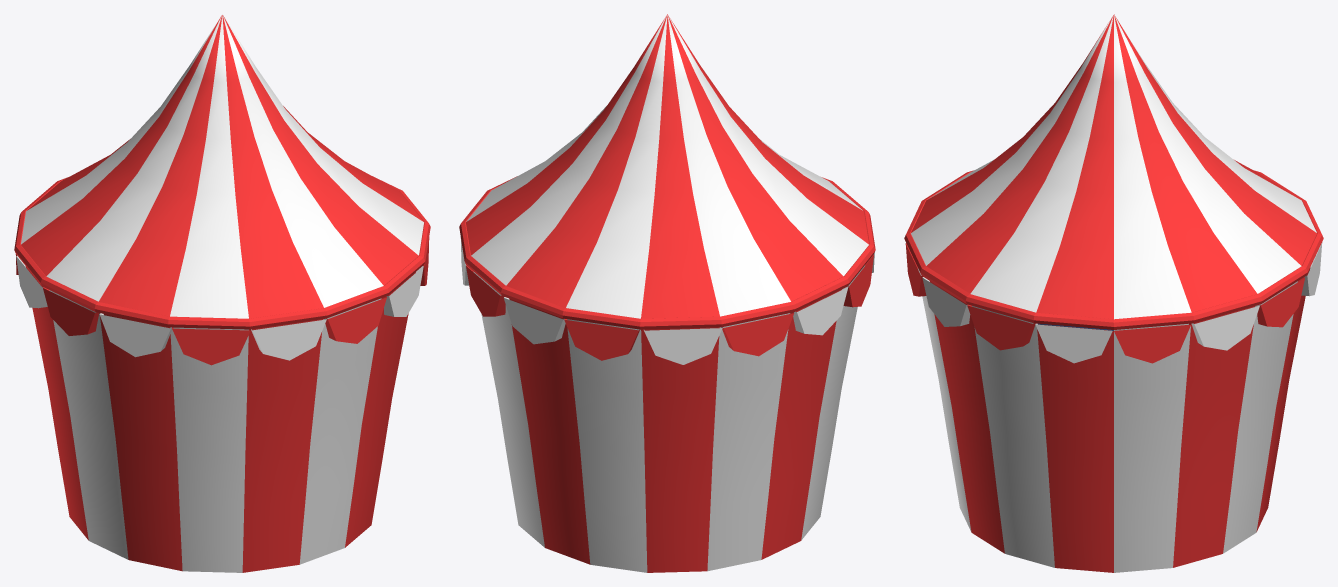
Rendered from tendaVermelha.fbx.
3 renders of one model, left to right at view 1: azimuth 30°, elevation 25°; view 2: azimuth 150°, elevation 25°; view 3: azimuth 270°, elevation 25°, orthographic.
Parts seen in each view (by area): view 1: tendaVermelha; view 2: tendaVermelha; view 3: tendaVermelha.
Boxes of the visible parts, box(x1,y1,x2,y2) form: tendaVermelha: box(14, 14, 430, 572); tendaVermelha: box(459, 14, 875, 572); tendaVermelha: box(904, 14, 1323, 572).
Bounding box in the file's own units: 189 × 246 × 189.
